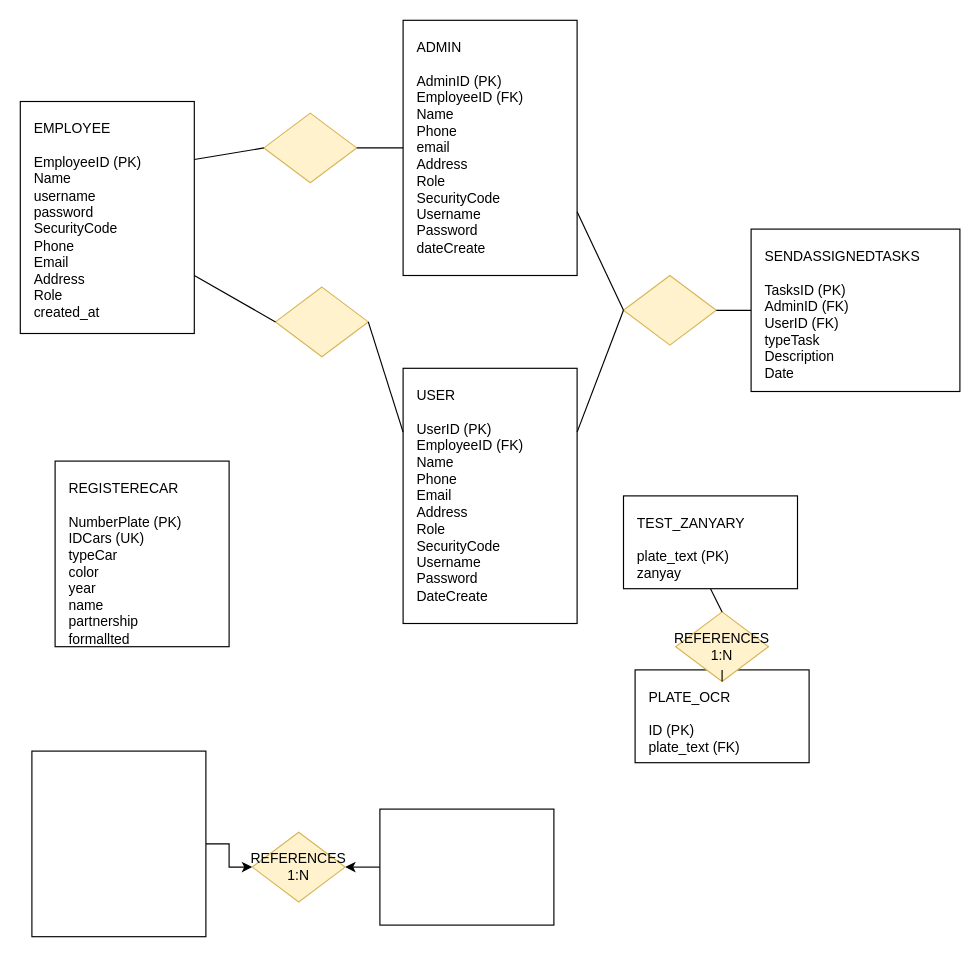
Some shapes in this 980 by 957 pixel diagram are drawn without their labels. Here are the shapes that lost their labels. From the top down, the centre of each, then its label:
At pixel 310 147: "MANAGES 1:N".
At pixel 321 321: "CREATES 1:N".
At pixel 669 309: "ASSIGNS M:N".
At pixel 118 843: "VEHICLES cars_id (PK) make model year color price dataRegister".
At pixel 466 866: "TRUKS truckID (PK) Type plateNumber dateAdded".
